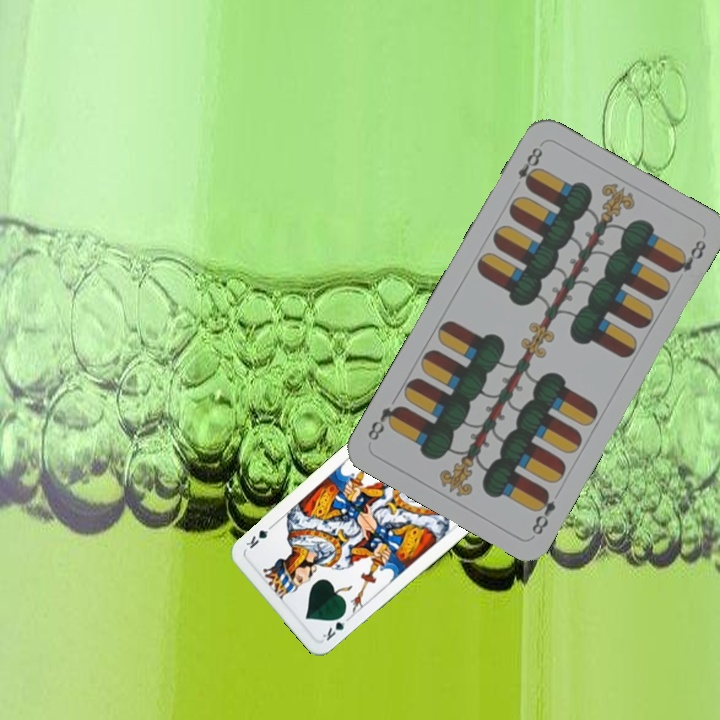E8: (527, 485, 559, 538), (513, 143, 546, 191)
GK: (318, 609, 349, 644)
